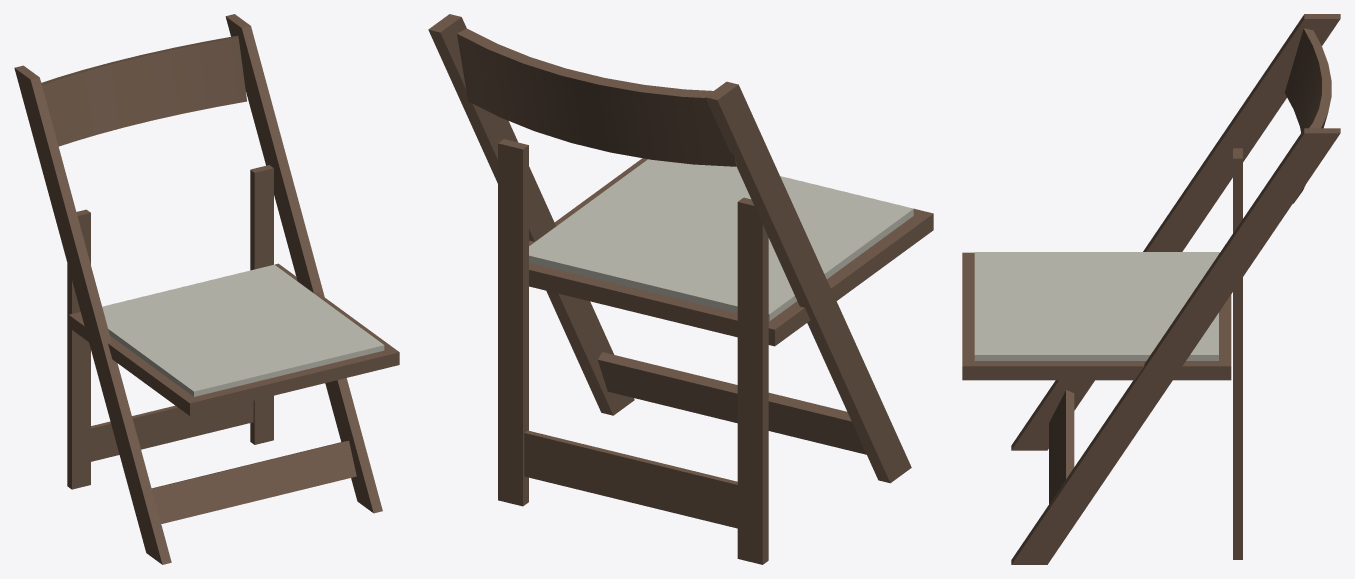
Rendered from test-chair.glb.
The picture shows the model from 3 angles, left to right: view 1: azimuth 30°, elevation 25°; view 2: azimuth 150°, elevation 25°; view 3: azimuth 270°, elevation 25°; orthographic projection. The views are drawn at different scales.
Visible parts, largest first — view 1: Box006; view 2: Box006; view 3: Box006.
Part boxes in pixels (box(x1,y1,x2,y2)): Box006: box(14, 14, 399, 564); Box006: box(428, 14, 933, 564); Box006: box(962, 14, 1340, 564).
Size of the model in its own units: 54.57 by 91.96 by 73.02.
